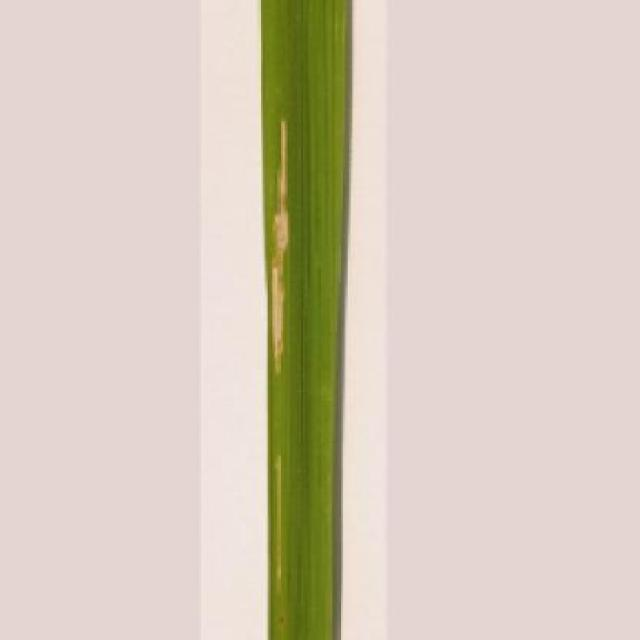Brown_Spot: (255, 0, 354, 640)
